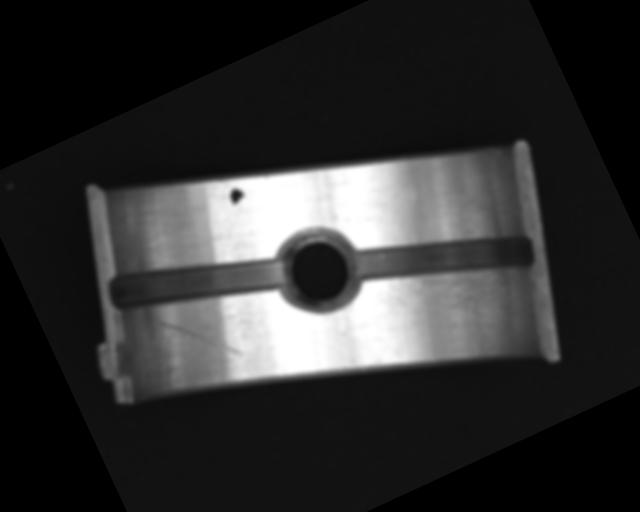blot: (226, 185, 248, 211)
gap: (347, 183, 538, 334), (102, 212, 290, 356)
hole: (265, 215, 371, 325)
nick: (154, 293, 244, 385)
scratch: (370, 230, 536, 370)
